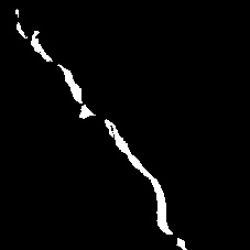crack: (105, 122, 173, 234), (57, 64, 81, 103), (32, 31, 50, 62), (80, 106, 93, 119), (17, 24, 26, 38), (178, 239, 187, 249), (14, 9, 20, 18)
